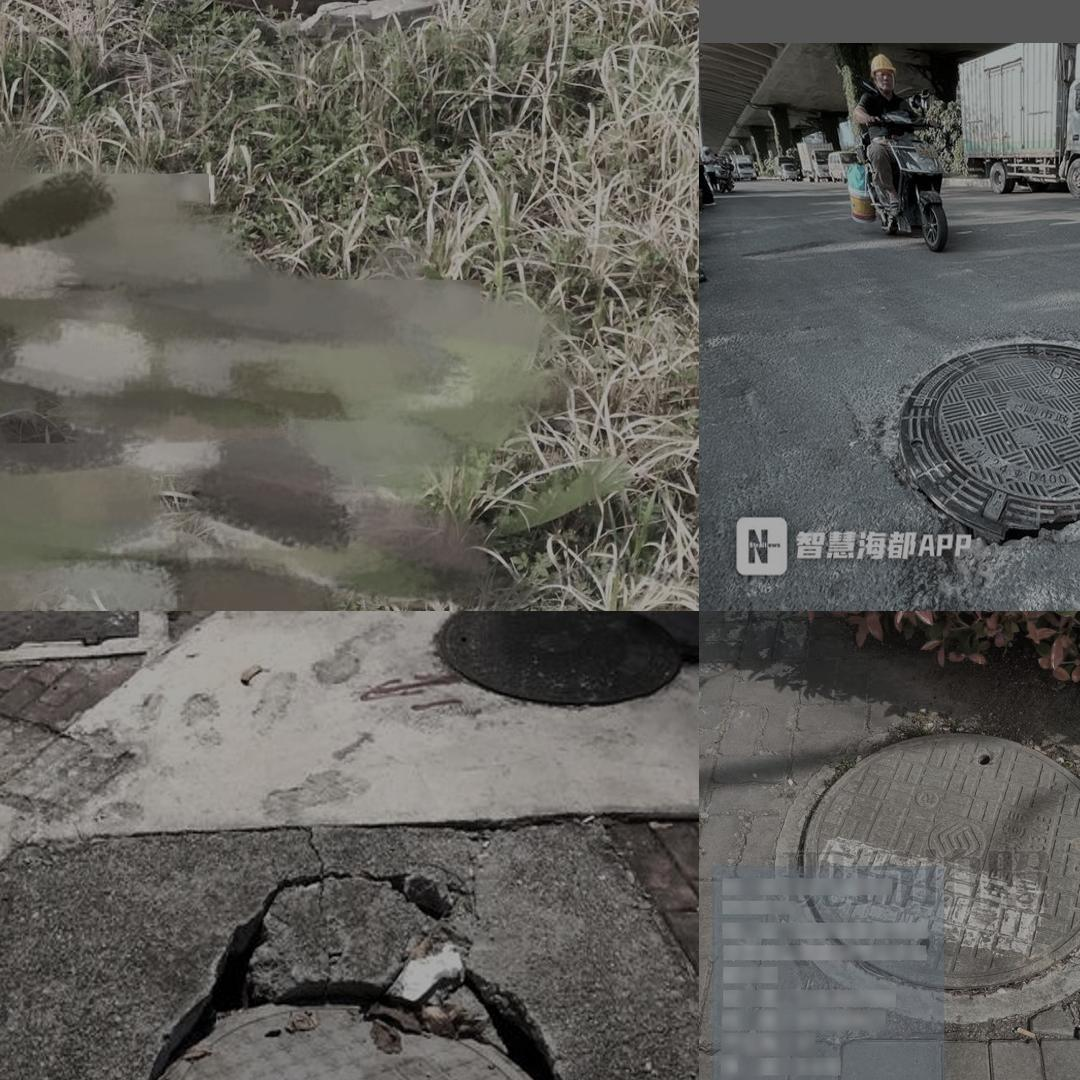circle: (0, 795, 694, 1080), (792, 719, 1080, 1011), (844, 309, 1080, 568), (32, 0, 520, 38)
